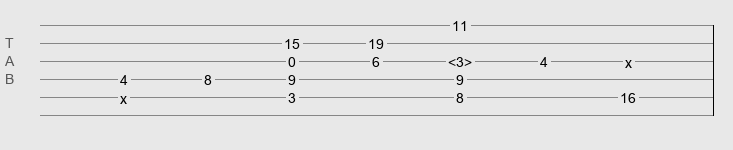0: (288, 54, 296, 64)
11: (452, 18, 468, 28)
15: (284, 36, 300, 46)
16: (620, 90, 636, 100)
19: (368, 36, 384, 46)
3: (288, 90, 296, 100)
4: (120, 72, 128, 82), (540, 54, 548, 64)
6: (372, 54, 380, 64)
8: (204, 72, 212, 82), (456, 90, 464, 100)
9: (288, 72, 296, 82), (456, 72, 464, 82)
harmonic: (448, 54, 472, 64)
x: (120, 91, 127, 99), (625, 55, 632, 63)
